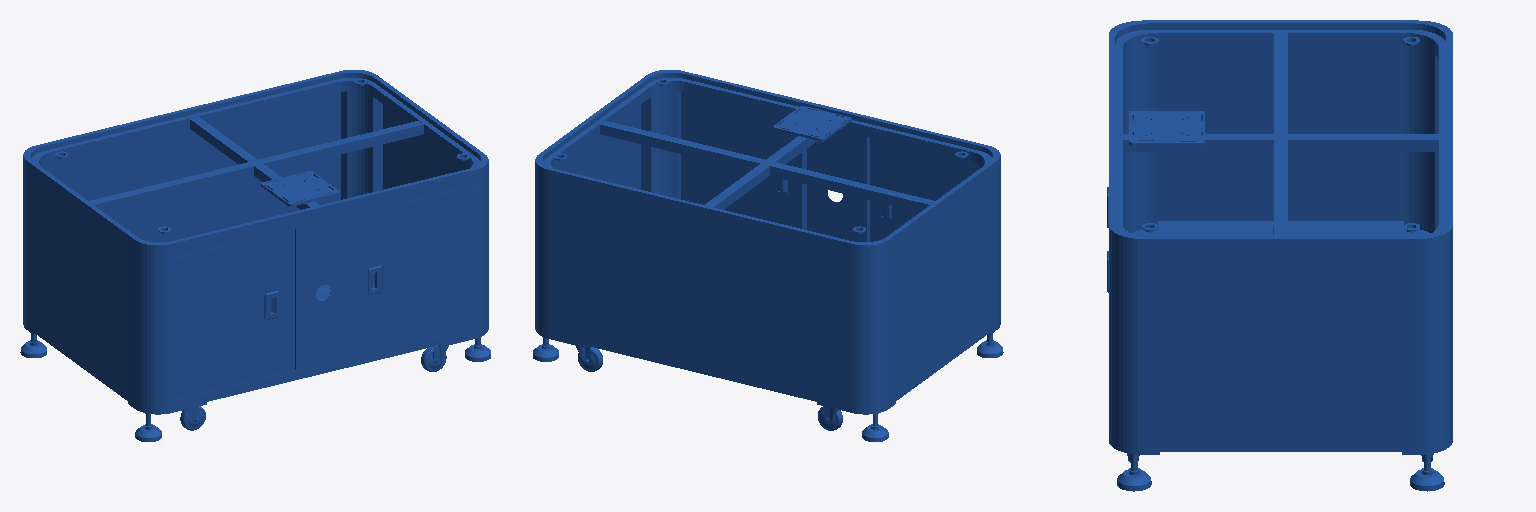
The robot description file, URDF, robot "xtrainer_cr5a_ag95_mimic":
<?xml version="1.0"?>
<robot name="xtrainer_cr5a_ag95_mimic">
  <material name="xtrainer_blue"><color rgba="0.20 0.40 0.6941 1"/></material>
  <material name="cr5a_gray"><color rgba="0.5922 0.5922 0.5922 1"/></material>
  <material name="cr5a_blue"><color rgba="0.7922 0.8196 0.9333 1"/></material>
  <material name="cr5a_white"><color rgba="1 1 1 1"/></material>

  <!-- SolidWorks assembly axes: +Y points down and +Z is depth.
       Rotate to Isaac's Z-up frame, center the footprint, and place the
       lowest caster point (838.3 mm) exactly on Z=0. -->
  <link name="world"/>
  <joint name="world_to_xtrainer" type="fixed">
    <origin xyz="0.781 0.505 0.8383" rpy="-1.57079632679 0 3.14159265359"/>
    <parent link="world"/>
    <child link="xtrainer_base"/>
  </joint>

  <!-- The complete X-Trainer environment is one mesh. It remains fixed. -->
  <link name="xtrainer_base">
    <inertial>
      <origin xyz="0.5299937 -0.1864414 -0.009367" rpy="0 0 0"/>
      <mass value="16.7027967"/>
      <inertia ixx="1.1683150" ixy="0.00000079" ixz="0.00000148" iyy="2.3969156" iyz="0.0106060" izz="3.5540378"/>
    </inertial>
    <visual><geometry><mesh filename="../meshes/xtrainer/real/cr5a_frame_001.stl" scale="0.001 0.001 0.001"/></geometry><material name="xtrainer_blue"/></visual>
    <visual><geometry><mesh filename="../meshes/xtrainer/real/cr5a_frame_002.stl" scale="0.001 0.001 0.001"/></geometry><material name="xtrainer_blue"/></visual>
    <visual><geometry><mesh filename="../meshes/xtrainer/real/cr5a_frame_003.stl" scale="0.001 0.001 0.001"/></geometry><material name="xtrainer_blue"/></visual>
    <visual><geometry><mesh filename="../meshes/xtrainer/real/cr5a_frame_004.stl" scale="0.001 0.001 0.001"/></geometry><material name="xtrainer_blue"/></visual>
    <visual><geometry><mesh filename="../meshes/xtrainer/real/cr5a_frame_005.stl" scale="0.001 0.001 0.001"/></geometry><material name="xtrainer_blue"/></visual>
    <visual><geometry><mesh filename="../meshes/xtrainer/real/cr5a_frame_006.stl" scale="0.001 0.001 0.001"/></geometry><material name="xtrainer_blue"/></visual>
    <visual><geometry><mesh filename="../meshes/xtrainer/real/cr5a_frame_007.stl" scale="0.001 0.001 0.001"/></geometry><material name="xtrainer_blue"/></visual>
    <visual><geometry><mesh filename="../meshes/xtrainer/real/cr5a_frame_008.stl" scale="0.001 0.001 0.001"/></geometry><material name="xtrainer_blue"/></visual>
    <visual><geometry><mesh filename="../meshes/xtrainer/real/cr5a_frame_009.stl" scale="0.001 0.001 0.001"/></geometry><material name="xtrainer_blue"/></visual>
    <visual><geometry><mesh filename="../meshes/xtrainer/real/cr5a_frame_010.stl" scale="0.001 0.001 0.001"/></geometry><material name="xtrainer_blue"/></visual>
    <visual><geometry><mesh filename="../meshes/xtrainer/real/cr5a_frame_011.stl" scale="0.001 0.001 0.001"/></geometry><material name="xtrainer_blue"/></visual>
    <visual><geometry><mesh filename="../meshes/xtrainer/real/cr5a_frame_012.stl" scale="0.001 0.001 0.001"/></geometry><material name="xtrainer_blue"/></visual>
    <visual><geometry><mesh filename="../meshes/xtrainer/real/cr5a_frame_013.stl" scale="0.001 0.001 0.001"/></geometry><material name="xtrainer_blue"/></visual>
    <visual><geometry><mesh filename="../meshes/xtrainer/real/cr5a_frame_014.stl" scale="0.001 0.001 0.001"/></geometry><material name="xtrainer_blue"/></visual>
    <visual><geometry><mesh filename="../meshes/xtrainer/real/cr5a_frame_015.stl" scale="0.001 0.001 0.001"/></geometry><material name="xtrainer_blue"/></visual>
    <visual><geometry><mesh filename="../meshes/xtrainer/real/cr5a_frame_016.stl" scale="0.001 0.001 0.001"/></geometry><material name="xtrainer_blue"/></visual>
    <visual><geometry><mesh filename="../meshes/xtrainer/real/cr5a_frame_017.stl" scale="0.001 0.001 0.001"/></geometry><material name="xtrainer_blue"/></visual>
    <visual><geometry><mesh filename="../meshes/xtrainer/real/cr5a_frame_018.stl" scale="0.001 0.001 0.001"/></geometry><material name="xtrainer_blue"/></visual>
    <visual><geometry><mesh filename="../meshes/xtrainer/real/cr5a_frame_019.stl" scale="0.001 0.001 0.001"/></geometry><material name="xtrainer_blue"/></visual>
    <visual><geometry><mesh filename="../meshes/xtrainer/real/cr5a_frame_020.stl" scale="0.001 0.001 0.001"/></geometry><material name="xtrainer_blue"/></visual>
    <visual><geometry><mesh filename="../meshes/xtrainer/real/cr5a_frame_021.stl" scale="0.001 0.001 0.001"/></geometry><material name="xtrainer_blue"/></visual>
    <visual><geometry><mesh filename="../meshes/xtrainer/real/cr5a_frame_022.stl" scale="0.001 0.001 0.001"/></geometry><material name="xtrainer_blue"/></visual>
    <visual><geometry><mesh filename="../meshes/xtrainer/real/cr5a_frame_023.stl" scale="0.001 0.001 0.001"/></geometry><material name="xtrainer_blue"/></visual>
    <collision><geometry><mesh filename="../meshes/xtrainer/real/cr5a_frame_001.stl" scale="0.001 0.001 0.001"/></geometry></collision>
    <collision><geometry><mesh filename="../meshes/xtrainer/real/cr5a_frame_002.stl" scale="0.001 0.001 0.001"/></geometry></collision>
    <collision><geometry><mesh filename="../meshes/xtrainer/real/cr5a_frame_003.stl" scale="0.001 0.001 0.001"/></geometry></collision>
    <collision><geometry><mesh filename="../meshes/xtrainer/real/cr5a_frame_004.stl" scale="0.001 0.001 0.001"/></geometry></collision>
    <collision><geometry><mesh filename="../meshes/xtrainer/real/cr5a_frame_005.stl" scale="0.001 0.001 0.001"/></geometry></collision>
    <collision><geometry><mesh filename="../meshes/xtrainer/real/cr5a_frame_006.stl" scale="0.001 0.001 0.001"/></geometry></collision>
    <collision><geometry><mesh filename="../meshes/xtrainer/real/cr5a_frame_007.stl" scale="0.001 0.001 0.001"/></geometry></collision>
    <collision><geometry><mesh filename="../meshes/xtrainer/real/cr5a_frame_008.stl" scale="0.001 0.001 0.001"/></geometry></collision>
    <collision><geometry><mesh filename="../meshes/xtrainer/real/cr5a_frame_009.stl" scale="0.001 0.001 0.001"/></geometry></collision>
    <collision><geometry><mesh filename="../meshes/xtrainer/real/cr5a_frame_010.stl" scale="0.001 0.001 0.001"/></geometry></collision>
    <collision><geometry><mesh filename="../meshes/xtrainer/real/cr5a_frame_011.stl" scale="0.001 0.001 0.001"/></geometry></collision>
    <collision><geometry><mesh filename="../meshes/xtrainer/real/cr5a_frame_012.stl" scale="0.001 0.001 0.001"/></geometry></collision>
    <collision><geometry><mesh filename="../meshes/xtrainer/real/cr5a_frame_013.stl" scale="0.001 0.001 0.001"/></geometry></collision>
    <collision><geometry><mesh filename="../meshes/xtrainer/real/cr5a_frame_014.stl" scale="0.001 0.001 0.001"/></geometry></collision>
    <collision><geometry><mesh filename="../meshes/xtrainer/real/cr5a_frame_015.stl" scale="0.001 0.001 0.001"/></geometry></collision>
    <collision><geometry><mesh filename="../meshes/xtrainer/real/cr5a_frame_016.stl" scale="0.001 0.001 0.001"/></geometry></collision>
    <collision><geometry><mesh filename="../meshes/xtrainer/real/cr5a_frame_017.stl" scale="0.001 0.001 0.001"/></geometry></collision>
    <collision><geometry><mesh filename="../meshes/xtrainer/real/cr5a_frame_018.stl" scale="0.001 0.001 0.001"/></geometry></collision>
    <collision><geometry><mesh filename="../meshes/xtrainer/real/cr5a_frame_019.stl" scale="0.001 0.001 0.001"/></geometry></collision>
    <collision><geometry><mesh filename="../meshes/xtrainer/real/cr5a_frame_020.stl" scale="0.001 0.001 0.001"/></geometry></collision>
    <collision><geometry><mesh filename="../meshes/xtrainer/real/cr5a_frame_021.stl" scale="0.001 0.001 0.001"/></geometry></collision>
    <collision><geometry><mesh filename="../meshes/xtrainer/real/cr5a_frame_022.stl" scale="0.001 0.001 0.001"/></geometry></collision>
    <collision><geometry><mesh filename="../meshes/xtrainer/real/cr5a_frame_023.stl" scale="0.001 0.001 0.001"/></geometry></collision>
  </link>

  <!-- CR5A side-mounted at the center of the 220 x 220 mm robot connection
       plate in the exported STL coordinate system. The outer plate face is
       y=0.006920982 m and its outward normal is -Y. -->
  <link name="cr5a_base">
    <inertial><origin xyz="0.0000081389 -0.0019104 0.028995" rpy="0 0 0"/><mass value="1.1"/><inertia ixx="0.0014545" ixy="-0.00000004324" ixz="-0.00000018126" iyy="0.001345" iyz="-0.0000062469" izz="0.002155"/></inertial>
    <visual><geometry><mesh filename="../meshes/cr5a/base_link.STL"/></geometry><material name="cr5a_gray"/></visual>
    <collision><geometry><mesh filename="../meshes/cr5a/base_link.STL"/></geometry></collision>
  </link>
  <joint name="xtrainer_to_cr5a" type="fixed">
    <origin xyz="0.780999 0.006920982 0.835" rpy="1.57079632679 -3.14159265359 0"/><parent link="xtrainer_base"/><child link="cr5a_base"/>
  </joint>

  <link name="Link1">
    <inertial><origin xyz="-0.00000047455 0.0032577 0.075323" rpy="0 0 0"/><mass value="5"/><inertia ixx="0.0053277" ixy="0.00000005647" ixz="-0.000000022604" iyy="0.0051106" iyz="-0.000092562" izz="0.0034077"/></inertial>
    <visual><geometry><mesh filename="../meshes/cr5a/J1.STL"/></geometry><material name="cr5a_gray"/></visual><collision><geometry><mesh filename="../meshes/cr5a/J1.STL"/></geometry></collision>
  </link>
  <joint name="joint1" type="revolute"><origin xyz="0 0 0.064" rpy="0 0 0"/><parent link="cr5a_base"/><child link="Link1"/><axis xyz="0 0 1"/><limit lower="-6.2831" upper="6.2831" effort="100" velocity="3.14"/><dynamics damping="0.1" friction="0.05"/></joint>

  <link name="Link2">
    <inertial><origin xyz="0.00017389 0.078516 0.21351" rpy="0 0 0"/><mass value="11.9"/><inertia ixx="0.17347" ixy="-0.000000039709" ixz="0.000131" iyy="0.16953" iyz="0.000000037334" izz="0.013285"/></inertial>
    <visual><geometry><mesh filename="../meshes/cr5a/J2.STL"/></geometry><material name="cr5a_gray"/></visual><collision><geometry><mesh filename="../meshes/cr5a/J2.STL"/></geometry></collision>
  </link>
  <joint name="joint2" type="revolute"><origin xyz="0 0.064 0.083" rpy="0 0 0"/><parent link="Link1"/><child link="Link2"/><axis xyz="0 1 0"/><limit lower="-6.2831" upper="6.2831" effort="100" velocity="3.14"/><dynamics damping="0.1" friction="0.05"/></joint>

  <link name="Link3">
    <inertial><origin xyz="-0.00015029 -0.048307 0.15228" rpy="0 0 0"/><mass value="3.87"/><inertia ixx="0.064798" ixy="-0.0000015455" ixz="-0.000059339" iyy="0.064091" iyz="0.001556" izz="0.0042264"/></inertial>
    <visual><geometry><mesh filename="../meshes/cr5a/J3.STL"/></geometry><material name="cr5a_blue"/></visual><collision><geometry><mesh filename="../meshes/cr5a/J3.STL"/></geometry></collision>
  </link>
  <joint name="joint3" type="revolute"><origin xyz="0.00034991 0.007 0.42703" rpy="0 0 0"/><parent link="Link2"/><child link="Link3"/><axis xyz="0 1 0"/><limit lower="-2.7925" upper="2.7925" effort="100" velocity="3.89"/><dynamics damping="0.1" friction="0.05"/></joint>

  <link name="Link4">
    <inertial><origin xyz="-0.0000002894 0.047446 0.0020777" rpy="0 0 0"/><mass value="2.07"/><inertia ixx="0.0016115" ixy="0.0000000054436" ixz="-0.0000000047861" iyy="0.0015715" iyz="-0.000038502" izz="0.00067853"/></inertial>
    <visual><geometry><mesh filename="../meshes/cr5a/J4.STL"/></geometry><material name="cr5a_blue"/></visual><collision><geometry><mesh filename="../meshes/cr5a/J4.STL"/></geometry></collision>
  </link>
  <joint name="joint4" type="revolute"><origin xyz="-0.00034988 0.021 0.35697" rpy="0 0 0"/><parent link="Link3"/><child link="Link4"/><axis xyz="0 1 0"/><limit lower="-6.2831" upper="6.2831" effort="100" velocity="3.89"/><dynamics damping="0.1" friction="0.05"/></joint>

  <link name="Link5">
    <inertial><origin xyz="-0.00000029433 -0.0072582 0.046677" rpy="0 0 0"/><mass value="2.1"/><inertia ixx="0.0021291" ixy="0.00000002591" ixz="-0.000000012719" iyy="0.00088081" iyz="-0.000020847" izz="0.0020942"/></inertial>
    <visual><geometry><mesh filename="../meshes/cr5a/J5.STL"/></geometry><material name="cr5a_blue"/></visual><collision><geometry><mesh filename="../meshes/cr5a/J5.STL"/></geometry></collision>
  </link>
  <joint name="joint5" type="revolute"><origin xyz="0 0.049 0.067" rpy="0 0 0"/><parent link="Link4"/><child link="Link5"/><axis xyz="0 0 1"/><limit lower="-6.2831" upper="6.2831" effort="100" velocity="3.89"/><dynamics damping="0.1" friction="0.05"/></joint>

  <link name="Link6">
    <inertial><origin xyz="0.00000001019 0.022777 0.000088138" rpy="0 0 0"/><mass value="0.27"/><inertia ixx="0.0001425" ixy="0.0000000000011102" ixz="0.00000000012175" iyy="0.00019903" iyz="-0.00000022857" izz="0.00014123"/></inertial>
    <visual><geometry><mesh filename="../meshes/cr5a/J6.STL"/></geometry><material name="cr5a_white"/></visual><collision><geometry><mesh filename="../meshes/cr5a/J6.STL"/></geometry></collision>
  </link>
  <joint name="joint6" type="revolute"><origin xyz="0 0.0665 0.049" rpy="0 0 0"/><parent link="Link5"/><child link="Link6"/><axis xyz="0 1 0"/><limit lower="-6.2831" upper="6.2831" effort="100" velocity="3.89"/><dynamics damping="0.1" friction="0.05"/></joint>

  <link name="tool0"/>
  <joint name="tool_joint" type="fixed"><origin xyz="0 0 0" rpy="4.71238898 0 3.14159265"/><parent link="Link6"/><child link="tool0"/></joint>

  <!-- DH-Robotics AG-160-95 (official package name: AG95). -->
  <link name="gripper_base_link">
    <inertial><origin xyz="0 0 0"/><mass value="0.83416"/><inertia ixx="0.0013016" ixy="-6.9374e-07" ixz="5.9848e-07" iyy="0.00049972" iyz="2.0244e-07" izz="0.001498"/></inertial>
    <visual><geometry><mesh filename="../meshes/ag95/base_link.STL" scale="0.001 0.001 0.001"/></geometry></visual>
    <collision><geometry><mesh filename="../meshes/ag95/base_link.STL" scale="0.001 0.001 0.001"/></geometry></collision>
  </link>
  <joint name="tool0_to_ag95" type="fixed">
    <origin xyz="0 0 -0.004" rpy="3.14159265359 0 1.57079633"/><parent link="tool0"/><child link="gripper_base_link"/>
  </joint>

  <link name="gripper_finger1_knuckle_link">
    <inertial><origin xyz="0 0 0"/><mass value="0.011111"/><inertia ixx="3.88172e-06" ixy="-2.29456e-13" ixz="8.33e-07" iyy="1.92174e-06" iyz="2.04435e-13" izz="4.32374e-06"/></inertial>
    <visual><geometry><mesh filename="../meshes/ag95/crank_Link.STL" scale="0.001 0.001 0.001"/></geometry></visual><collision><geometry><mesh filename="../meshes/ag95/crank_Link.STL" scale="0.001 0.001 0.001"/></geometry></collision>
  </link>
  <joint name="gripper_finger1_joint" type="revolute"><origin xyz="-0.016 0 0.10586" rpy="0 0 3.14159265"/><parent link="gripper_base_link"/><child link="gripper_finger1_knuckle_link"/><axis xyz="0 -1 0"/><limit lower="0" upper="0.6524" velocity="2" effort="1000"/><dynamics damping="0.1" friction="0.05"/></joint>

  <link name="gripper_finger2_knuckle_link">
    <inertial><origin xyz="0 0 0"/><mass value="0.011111"/><inertia ixx="3.88172e-06" ixy="-2.29456e-13" ixz="8.33e-07" iyy="1.92174e-06" iyz="2.04435e-13" izz="4.32374e-06"/></inertial>
    <visual><geometry><mesh filename="../meshes/ag95/crank_Link.STL" scale="0.001 0.001 0.001"/></geometry></visual><collision><geometry><mesh filename="../meshes/ag95/crank_Link.STL" scale="0.001 0.001 0.001"/></geometry></collision>
  </link>
  <joint name="gripper_finger2_joint" type="revolute"><origin xyz="0.016 0 0.10586" rpy="0 0 0"/><parent link="gripper_base_link"/><child link="gripper_finger2_knuckle_link"/><axis xyz="0 -1 0"/><limit lower="0" upper="0.6524" velocity="2" effort="1000"/><mimic joint="gripper_finger1_joint"/></joint>

  <link name="gripper_finger1_finger_link">
    <inertial><origin xyz="0 0 0"/><mass value="0.0222871"/><inertia ixx="8.72836e-06" ixy="7.0843e-15" ixz="-2.18833e-06" iyy="7.26157e-06" iyz="7.6579e-15" izz="3.3425e-06"/></inertial>
    <visual><geometry><mesh filename="../meshes/ag95/rod_Link.STL" scale="0.001 0.001 0.001"/></geometry></visual><collision><geometry><mesh filename="../meshes/ag95/rod_Link.STL" scale="0.001 0.001 0.001"/></geometry></collision>
  </link>
  <joint name="gripper_finger1_finger_joint" type="revolute"><origin xyz="0.0292080078 0 -0.0227132622" rpy="0 0 0"/><parent link="gripper_finger1_knuckle_link"/><child link="gripper_finger1_finger_link"/><axis xyz="0 -1 0"/><limit lower="0" upper="0.29775" velocity="2" effort="1000"/><mimic joint="gripper_finger1_joint" multiplier="0.4563942" offset="0"/></joint>

  <link name="gripper_finger2_finger_link">
    <inertial><origin xyz="0 0 0"/><mass value="0.0222871"/><inertia ixx="8.72836e-06" ixy="7.0843e-15" ixz="-2.18833e-06" iyy="7.26157e-06" iyz="7.6579e-15" izz="3.3425e-06"/></inertial>
    <visual><geometry><mesh filename="../meshes/ag95/rod_Link.STL" scale="0.001 0.001 0.001"/></geometry></visual><collision><geometry><mesh filename="../meshes/ag95/rod_Link.STL" scale="0.001 0.001 0.001"/></geometry></collision>
  </link>
  <joint name="gripper_finger2_finger_joint" type="revolute"><origin xyz="0.0292080078 0 -0.0227132622" rpy="0 0 0"/><parent link="gripper_finger2_knuckle_link"/><child link="gripper_finger2_finger_link"/><axis xyz="0 -1 0"/><limit lower="0" upper="0.29775" velocity="2" effort="1000"/><mimic joint="gripper_finger1_joint" multiplier="0.4563942" offset="0"/></joint>

  <link name="gripper_finger1_inner_knuckle_link">
    <inertial><origin xyz="0 0 0"/><mass value="0.0318004"/><inertia ixx="1.39848e-05" ixy="-9.54763e-15" ixz="-5.01422e-06" iyy="1.04943e-05" iyz="8.94585e-16" izz="1.36183e-05"/></inertial>
    <visual><geometry><mesh filename="../meshes/ag95/proximal_phalanx_Link.STL" scale="0.001 0.001 0.001"/></geometry></visual><collision><geometry><mesh filename="../meshes/ag95/proximal_phalanx_Link.STL" scale="0.001 0.001 0.001"/></geometry></collision>
  </link>
  <joint name="gripper_finger1_inner_knuckle_joint" type="revolute"><origin xyz="-0.016 0 0.10586" rpy="0 0 3.14159265"/><parent link="gripper_base_link"/><child link="gripper_finger1_inner_knuckle_link"/><axis xyz="0 -1 0"/><limit lower="0" upper="0.9750" velocity="2" effort="1000"/><mimic joint="gripper_finger1_joint" multiplier="1.49462955" offset="0"/></joint>

  <link name="gripper_finger2_inner_knuckle_link">
    <inertial><origin xyz="0 0 0"/><mass value="0.0318004"/><inertia ixx="1.39848e-05" ixy="-9.54763e-15" ixz="-5.01422e-06" iyy="1.04943e-05" iyz="8.94585e-16" izz="1.36183e-05"/></inertial>
    <visual><geometry><mesh filename="../meshes/ag95/proximal_phalanx_Link.STL" scale="0.001 0.001 0.001"/></geometry></visual><collision><geometry><mesh filename="../meshes/ag95/proximal_phalanx_Link.STL" scale="0.001 0.001 0.001"/></geometry></collision>
  </link>
  <joint name="gripper_finger2_inner_knuckle_joint" type="revolute"><origin xyz="0.016 0 0.10586" rpy="0 0 0"/><parent link="gripper_base_link"/><child link="gripper_finger2_inner_knuckle_link"/><axis xyz="0 -1 0"/><limit lower="0" upper="0.9750" velocity="2" effort="1000"/><mimic joint="gripper_finger1_joint" multiplier="1.49462955" offset="0"/></joint>

  <link name="gripper_finger1_finger_tip_link">
    <inertial><origin xyz="0 0 0"/><mass value="0.0124305"/><inertia ixx="2.84217e-06" ixy="-2.48048e-15" ixz="8.24539e-07" iyy="3.03961e-06" iyz="2.16427e-13" izz="1.11815e-06"/></inertial>
    <visual><geometry><mesh filename="../meshes/ag95/distal_phalanx_Link.STL" scale="0.001 0.001 0.001"/></geometry></visual><collision><geometry><mesh filename="../meshes/ag95/distal_phalanx_Link.STL" scale="0.001 0.001 0.001"/></geometry></collision>
  </link>
  <joint name="gripper_finger1_finger_tip_joint" type="revolute"><origin xyz="0.0394969464 0 0.0382752038" rpy="0 0 0"/><parent link="gripper_finger1_inner_knuckle_link"/><child link="gripper_finger1_finger_tip_link"/><axis xyz="0 1 0"/><limit lower="0" upper="0.9750" velocity="2" effort="1000"/><mimic joint="gripper_finger1_joint" multiplier="1.49462955" offset="0"/></joint>

  <link name="gripper_finger2_finger_tip_link">
    <inertial><origin xyz="0 0 0"/><mass value="0.0124305"/><inertia ixx="2.84217e-06" ixy="-2.48048e-15" ixz="8.24539e-07" iyy="3.03961e-06" iyz="2.16427e-13" izz="1.11815e-06"/></inertial>
    <visual><geometry><mesh filename="../meshes/ag95/distal_phalanx_Link.STL" scale="0.001 0.001 0.001"/></geometry></visual><collision><geometry><mesh filename="../meshes/ag95/distal_phalanx_Link.STL" scale="0.001 0.001 0.001"/></geometry></collision>
  </link>
  <joint name="gripper_finger2_finger_tip_joint" type="revolute"><origin xyz="0.0394969464 0 0.0382752038" rpy="0 0 0"/><parent link="gripper_finger2_inner_knuckle_link"/><child link="gripper_finger2_finger_tip_link"/><axis xyz="0 1 0"/><limit lower="0" upper="0.9750" velocity="2" effort="1000"/><mimic joint="gripper_finger1_joint" multiplier="1.49462955" offset="0"/></joint>
</robot>

--- Facts derived from the render (not from the file) ---
Views: 3 orthographic renders of the robot side by side, from view 1: azimuth 30°, elevation 25°; view 2: azimuth 150°, elevation 25°; view 3: azimuth 270°, elevation 25°.
Robot: xtrainer_cr5a_ag95_mimic — 19 links, 18 joints (14 revolute, 4 fixed); root link world; default pose: all joints at 0.
Links seen in each view (by area): view 1: xtrainer_base; view 2: xtrainer_base; view 3: xtrainer_base.
Link boxes in pixels (x1=…): xtrainer_base: x1=20, y1=70, x2=490, y2=441; xtrainer_base: x1=533, y1=70, x2=1003, y2=441; xtrainer_base: x1=1107, y1=20, x2=1452, y2=491.
Bounding box of the posed robot: 1.51 × 1 × 0.8314 m (x, y, z).
22 mesh visuals loaded from 35 distinct referenced files (22 binary STL); not drawn: 17 (reference not matched to a file when rendering).
